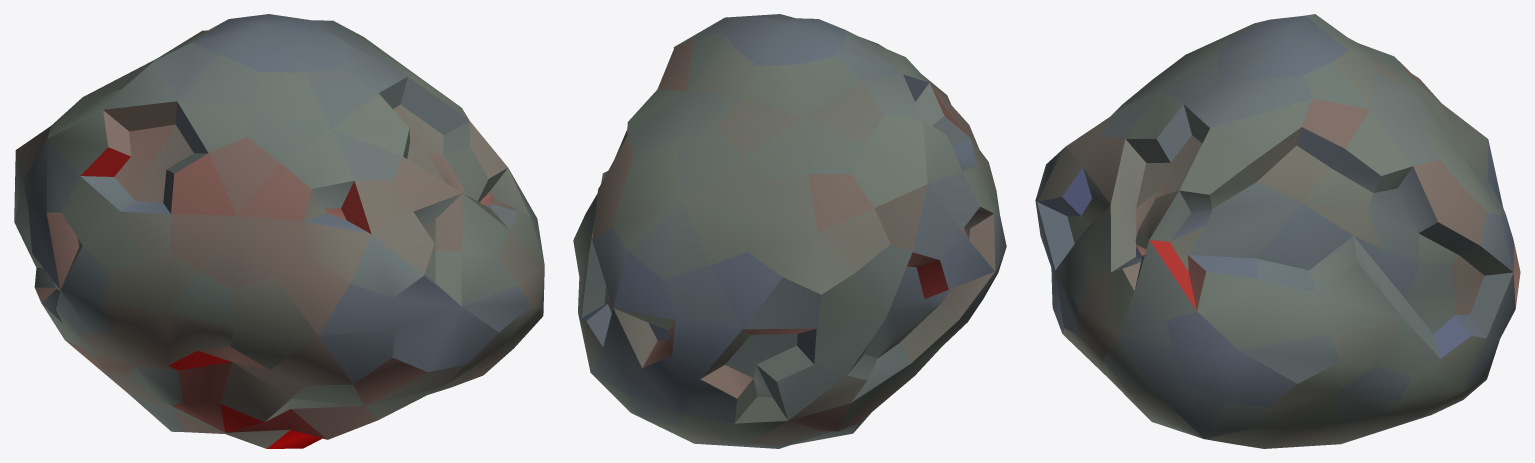
Rendered from rock_2.fbx.
3 renders of one model, left to right at view 1: azimuth 30°, elevation 25°; view 2: azimuth 150°, elevation 25°; view 3: azimuth 270°, elevation 25°, orthographic. The views are drawn at different scales.
Visible parts, largest first — view 1: Mesh (2); view 2: Mesh (2); view 3: Mesh (2).
Boxes of the visible parts, <box> form: Mesh (2): <box>14,14,544,448</box>; Mesh (2): <box>573,14,1006,448</box>; Mesh (2): <box>1035,14,1520,448</box>.
Bounding box in the file's own units: 97.97 × 90.28 × 102.
